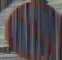No Stopping: (4, 1, 53, 54)
